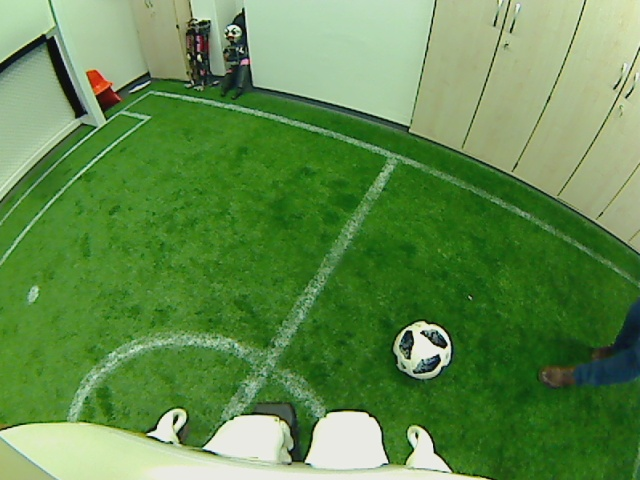ball: (392, 317, 454, 380)
